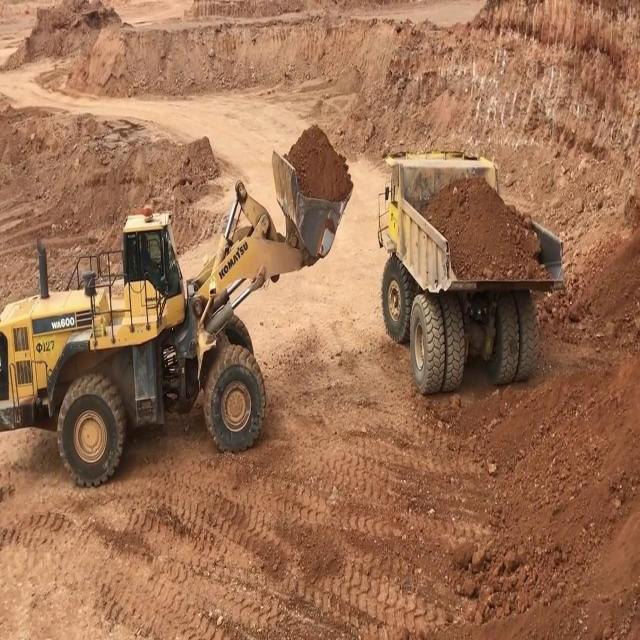Dump Truck: (374, 146, 566, 394)
Loader: (0, 149, 353, 492)
